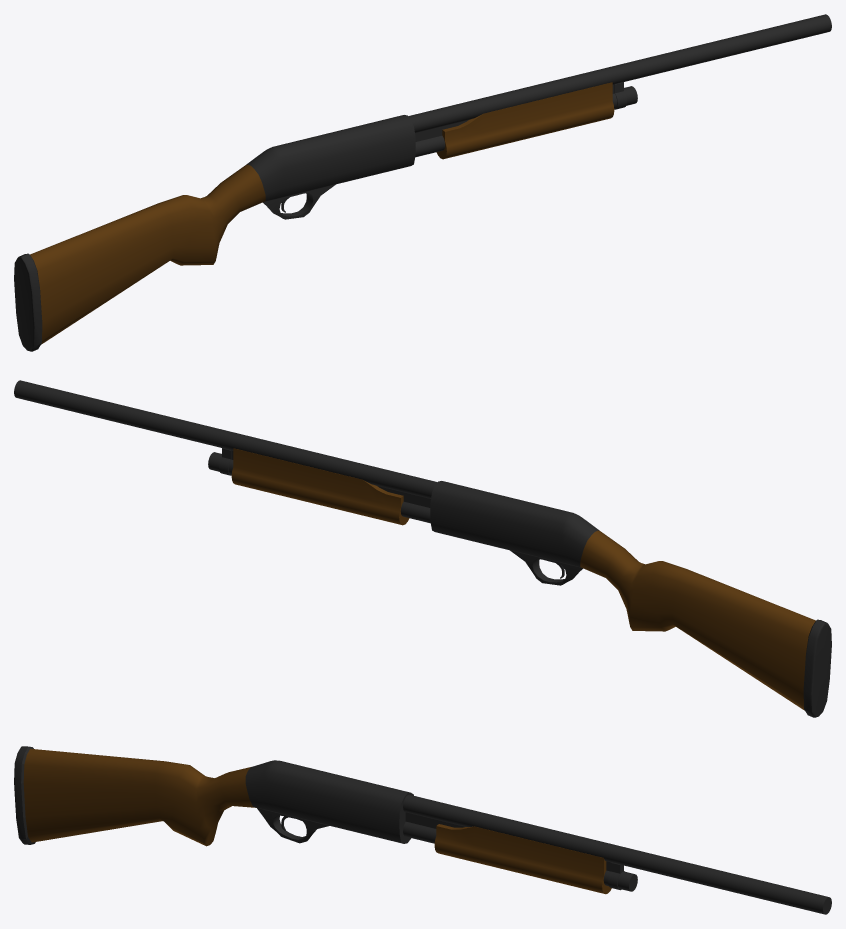
Rendered from ShotgunPump.fbx.
The picture shows the model from 3 angles, top to bottom: view 1: azimuth 30°, elevation 25°; view 2: azimuth 150°, elevation 25°; view 3: azimuth 330°, elevation 25°; orthographic projection.
Visible parts, largest first — view 1: Base, Barrel, Pump; view 2: Base, Barrel, Pump; view 3: Base, Barrel, Pump.
Part boxes in pixels (x1,y1,x2,y2): Base: (14,115,415,351); Barrel: (408,14,831,157); Pump: (436,82,614,159); Base: (430,481,831,717); Barrel: (14,380,437,523); Pump: (231,448,409,525); Base: (14,746,413,846); Barrel: (403,794,831,914); Pump: (434,824,611,894).
Size of the model in its own units: 23.73 by 4.01 by 0.9759.
